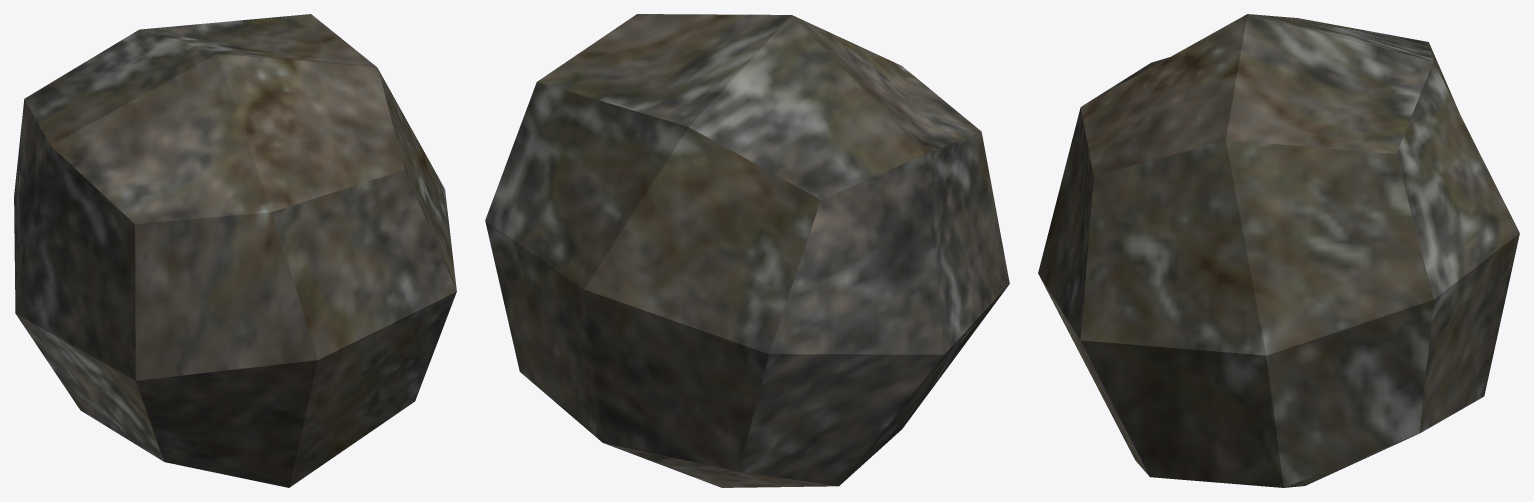
File: smallRock1.fbx
The picture shows the model from 3 angles, left to right: view 1: azimuth 30°, elevation 25°; view 2: azimuth 150°, elevation 25°; view 3: azimuth 270°, elevation 25°; orthographic projection. The views are drawn at different scales.
Visible parts, largest first — view 1: Cube.010; view 2: Cube.010; view 3: Cube.010.
Boxes of the visible parts, x1,y1,x2,y2 form: Cube.010: (14, 14, 456, 487); Cube.010: (485, 14, 1009, 487); Cube.010: (1038, 14, 1519, 487).
Bounding box in the file's own units: 76.67 × 75.2 × 72.55.
